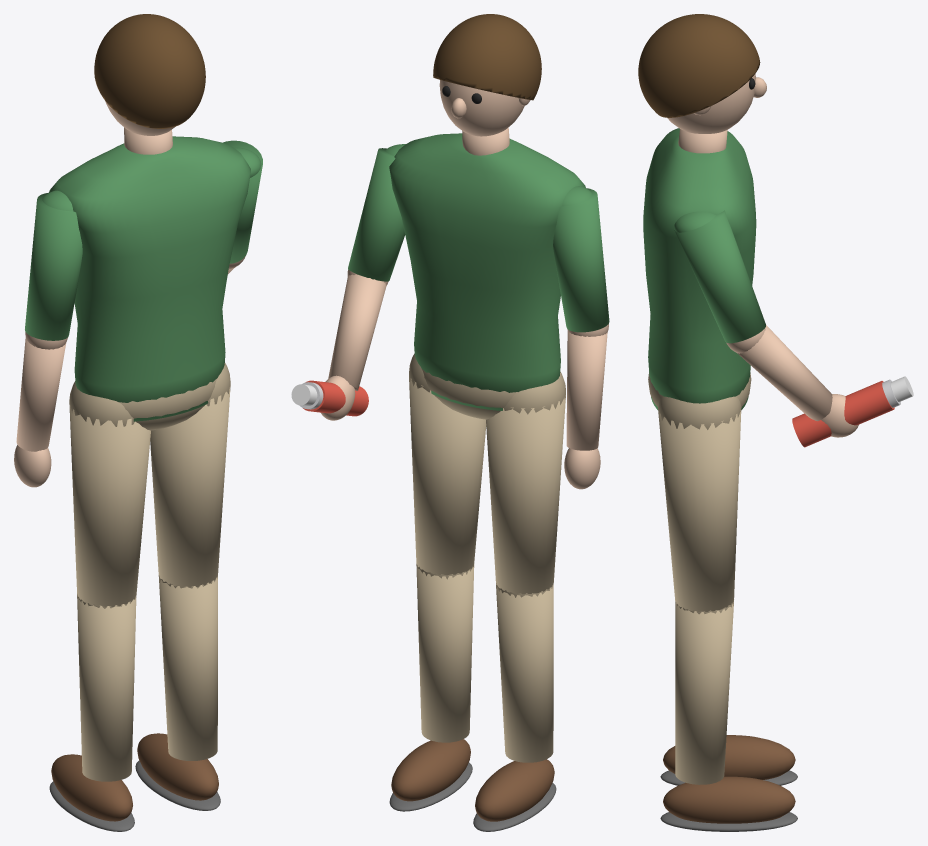
The model's file is human_3.glb.
The picture shows the model from 3 angles, left to right: view 1: azimuth 30°, elevation 25°; view 2: azimuth 150°, elevation 25°; view 3: azimuth 270°, elevation 25°; orthographic projection. The views are drawn at different scales.
Visible parts, largest first — view 1: Body, Leg_L, Leg_R, Arm_L, Arm_R; view 2: Body, Leg_L, Leg_R, Arm_L, Arm_R, Spray_Can; view 3: Body, Leg_R, Arm_R, Leg_L, Spray_Can.
Part boxes in pixels (<box>): Body: <box>49,14,250,430</box>; Leg_L: <box>49,381,150,831</box>; Leg_R: <box>135,363,230,810</box>; Arm_L: <box>14,190,82,487</box>; Arm_R: <box>223,140,262,273</box>; Body: <box>389,14,585,419</box>; Leg_L: <box>473,372,565,831</box>; Leg_R: <box>389,353,486,811</box>; Arm_L: <box>553,186,609,489</box>; Arm_R: <box>321,144,405,420</box>; Spray_Can: <box>291,380,368,416</box>; Body: <box>638,14,766,409</box>; Leg_R: <box>658,396,797,831</box>; Arm_R: <box>674,210,858,437</box>; Leg_L: <box>660,735,797,785</box>; Spray_Can: <box>792,376,913,447</box>.
Bounding box in the file's own units: 0.5595 × 1.76 × 0.56.
